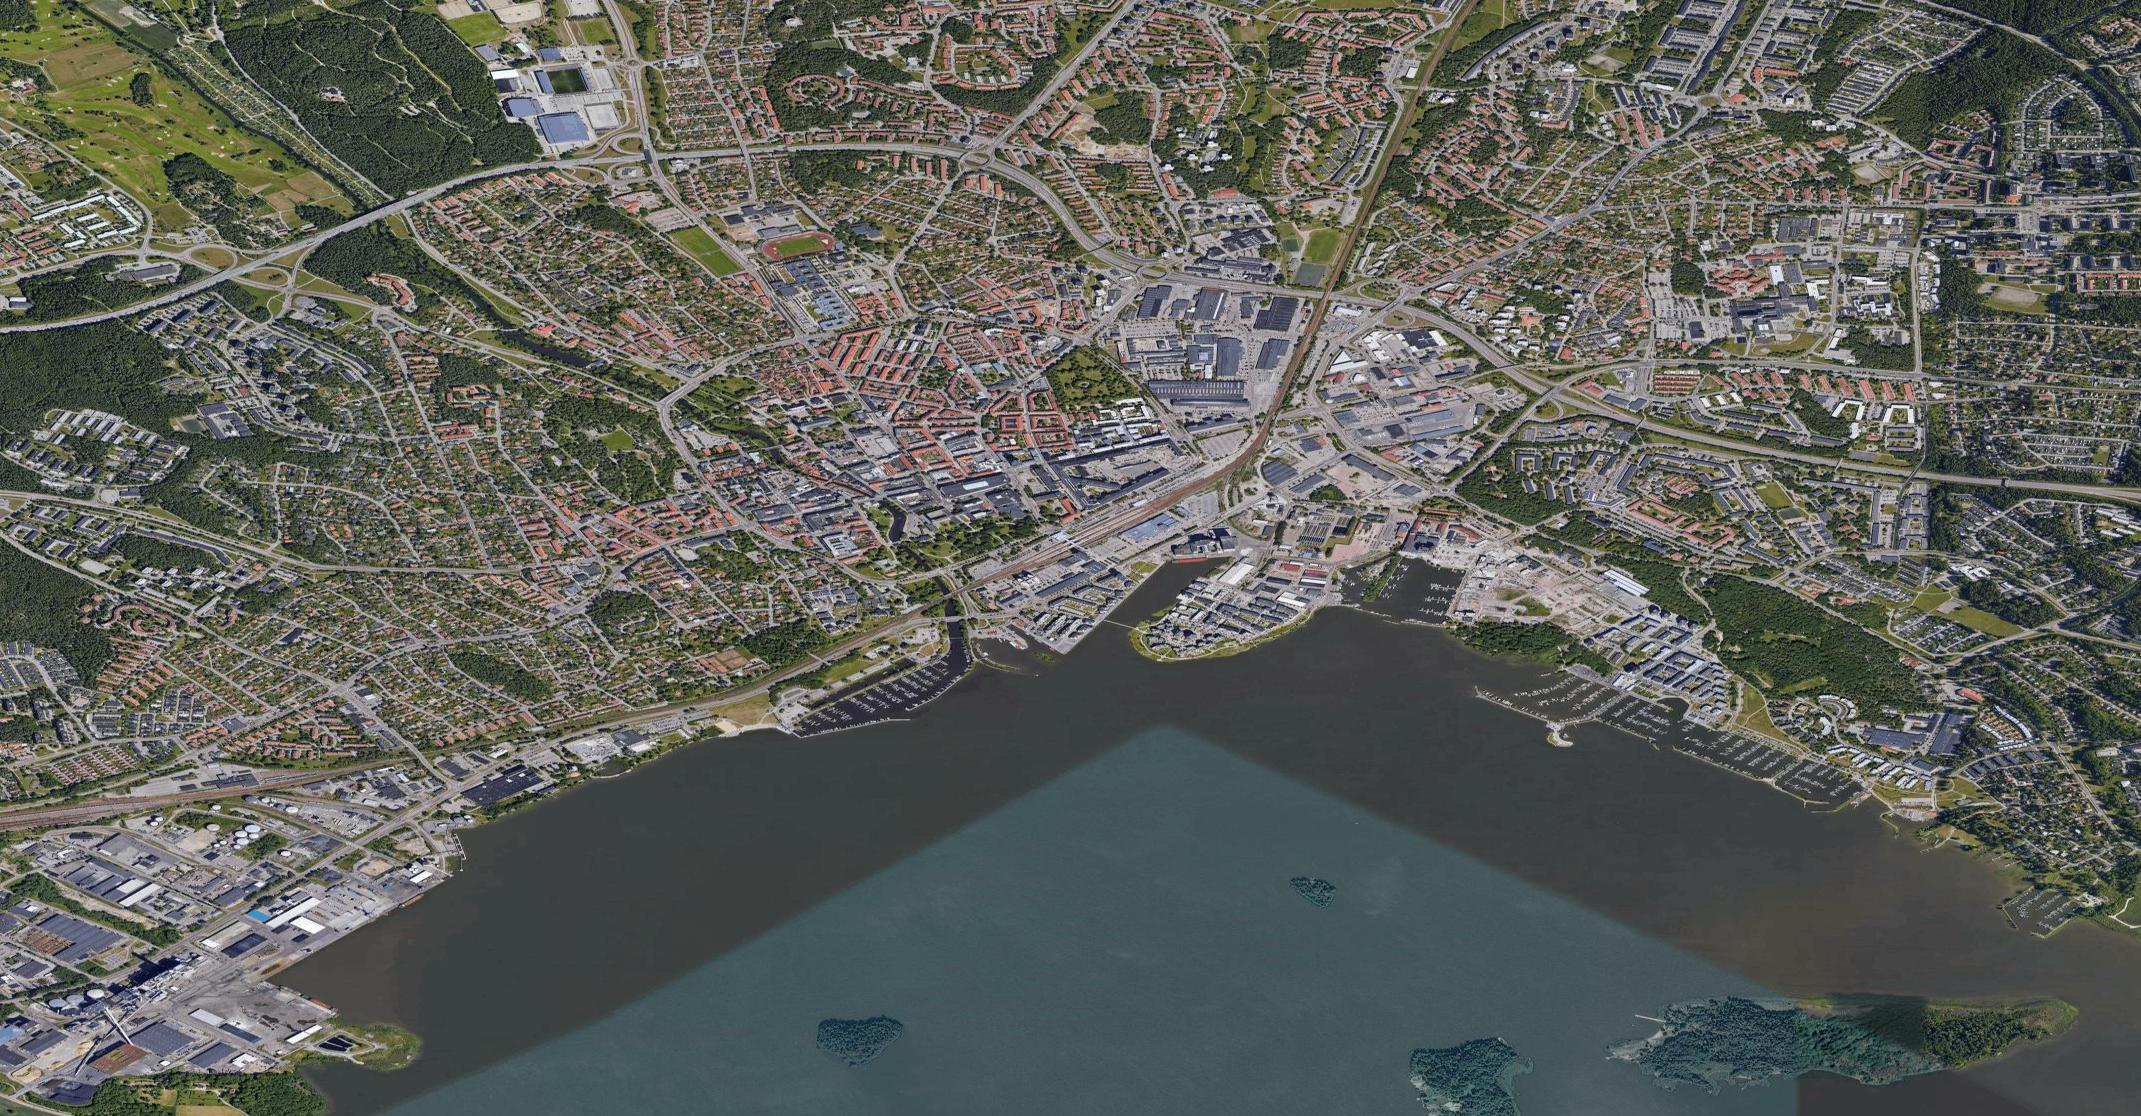harbor: (1460, 656, 1896, 824), (770, 623, 1061, 752), (455, 722, 725, 853), (1073, 547, 1242, 649), (1298, 548, 1470, 640), (1960, 844, 2099, 953)
motorway: (1509, 368, 1784, 457), (1786, 450, 2141, 506), (946, 147, 1110, 255), (218, 201, 411, 280), (406, 149, 656, 210), (1330, 290, 1512, 370), (1, 273, 224, 337), (1097, 251, 1337, 297), (646, 137, 953, 163)
train_station: (988, 493, 1161, 581)
